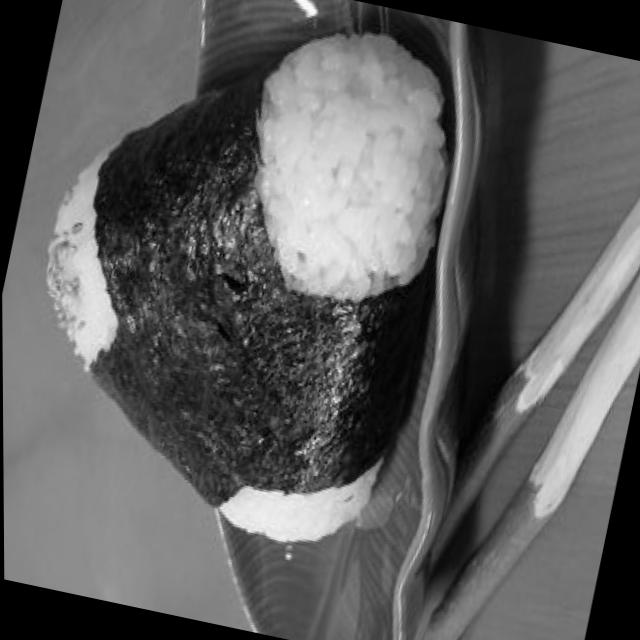米饭主食: (0, 0, 529, 640)
